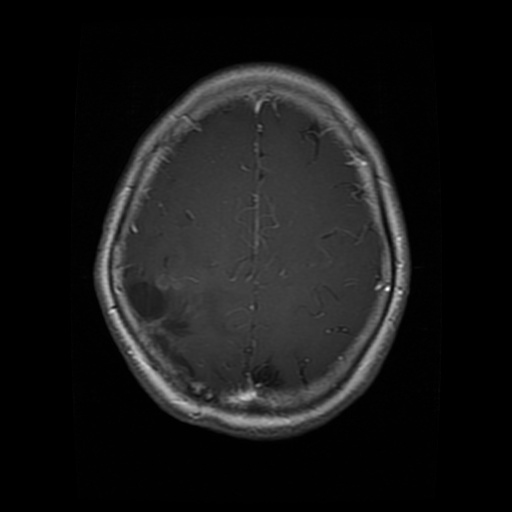glioma: (127, 281, 248, 391)
